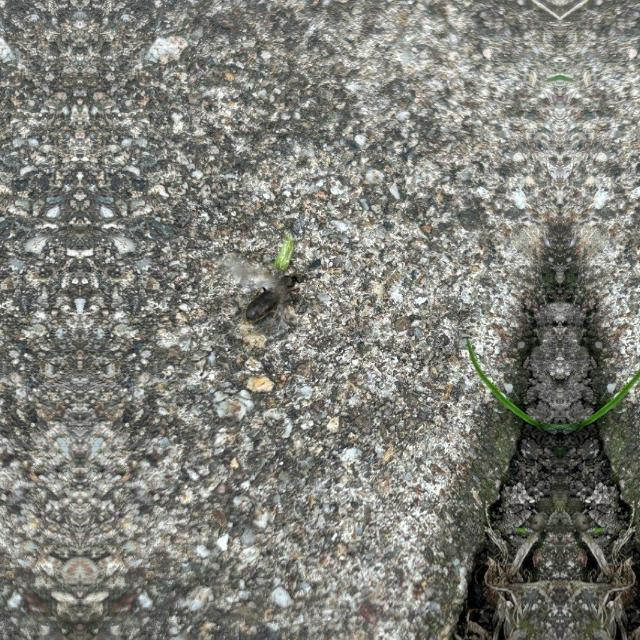Lasius: (212, 245, 314, 331)
